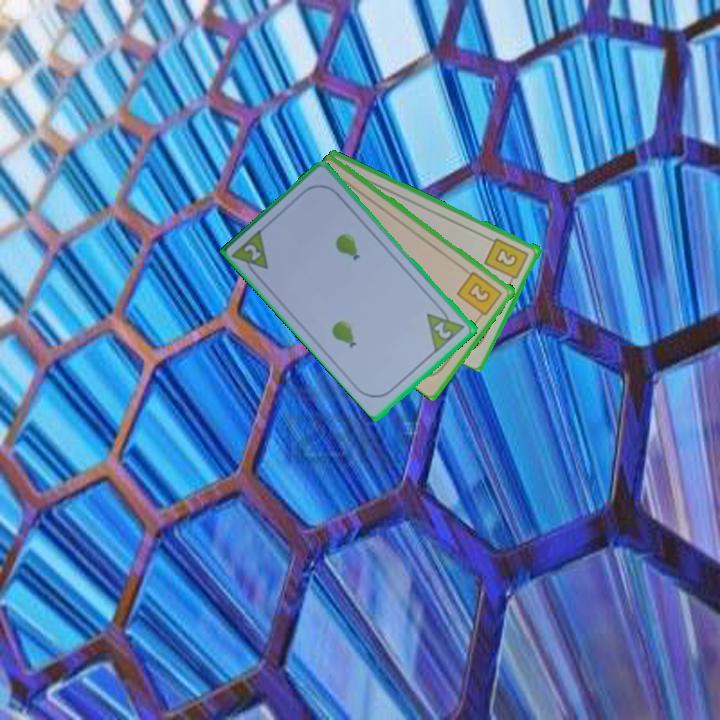2b: (454, 268, 505, 322), (481, 234, 532, 287)
2p: (423, 301, 469, 355), (229, 225, 272, 281)
